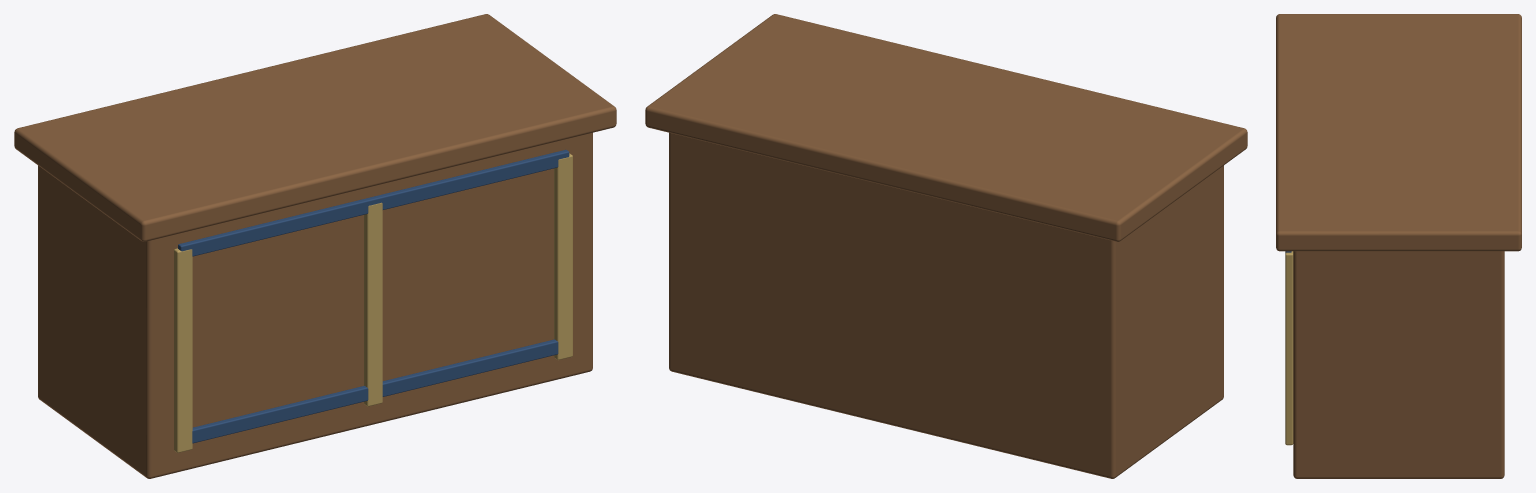
File: fantasy-cartographers-map-printing-guild-expedition-di-c9fb358d__32274.glb
The picture shows the model from 3 angles, left to right: view 1: azimuth 30°, elevation 25°; view 2: azimuth 150°, elevation 25°; view 3: azimuth 270°, elevation 25°; orthographic projection. The views are drawn at different scales.
Parts seen in each view (by area): view 1: expedition-dispatch-counter; view 2: expedition-dispatch-counter; view 3: expedition-dispatch-counter.
Part boxes in pixels (x1=…): expedition-dispatch-counter: x1=14, y1=14, x2=616, y2=478; expedition-dispatch-counter: x1=645, y1=14, x2=1247, y2=478; expedition-dispatch-counter: x1=1276, y1=14, x2=1521, y2=478.
Bounding box in the file's own units: 1.65 × 0.89 × 0.78.
